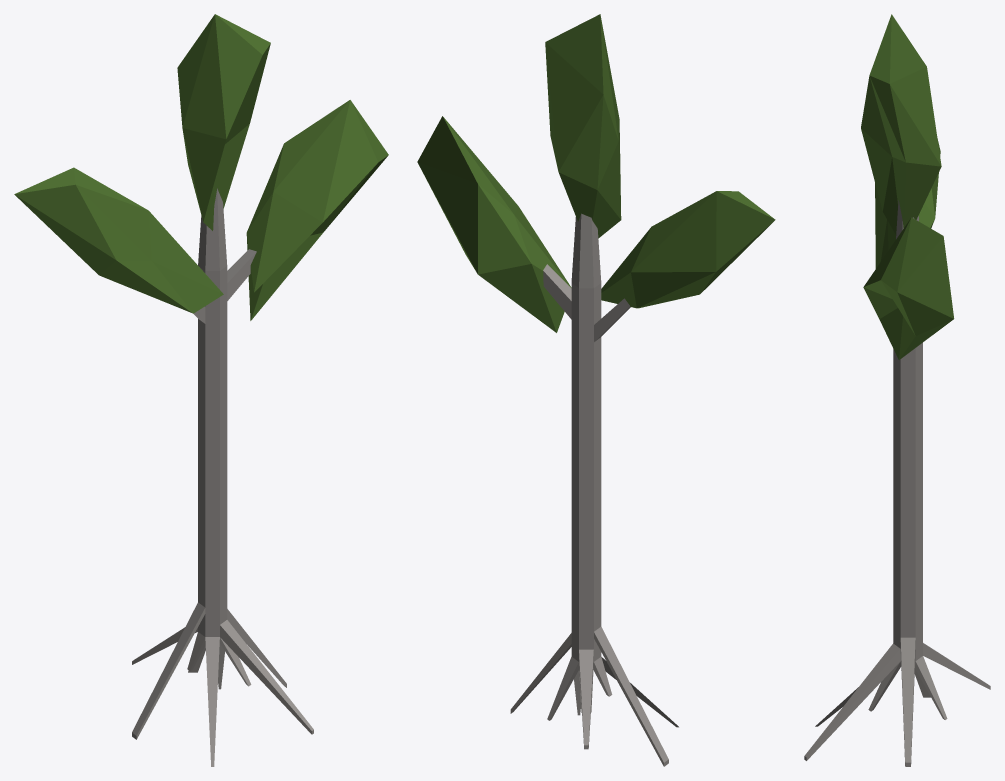
The model's file is ウォーキング・パーム_1.fbx.
3 views of the same model, side by side, from view 1: azimuth 30°, elevation 25°; view 2: azimuth 150°, elevation 25°; view 3: azimuth 270°, elevation 25° (orthographic). The views are drawn at different scales.
Visible parts, largest first — view 1: ICO球, 円柱; view 2: ICO球, 円柱; view 3: ICO球, 円柱.
Boxes of the visible parts, bbox=[...] form: ICO球: bbox=[14, 14, 388, 320]; 円柱: bbox=[132, 188, 313, 766]; ICO球: bbox=[417, 14, 775, 332]; 円柱: bbox=[510, 213, 678, 766]; ICO球: bbox=[861, 14, 954, 359]; 円柱: bbox=[804, 200, 990, 766].
Size of the model in its own units: 264 by 497 by 115.
